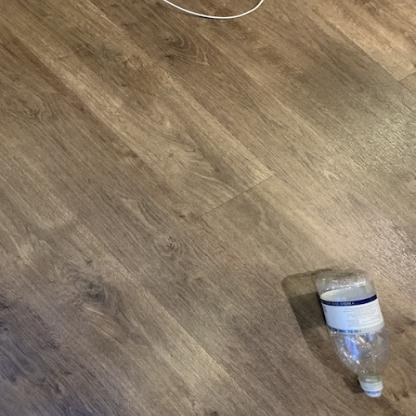trash: (312, 266, 394, 398)
